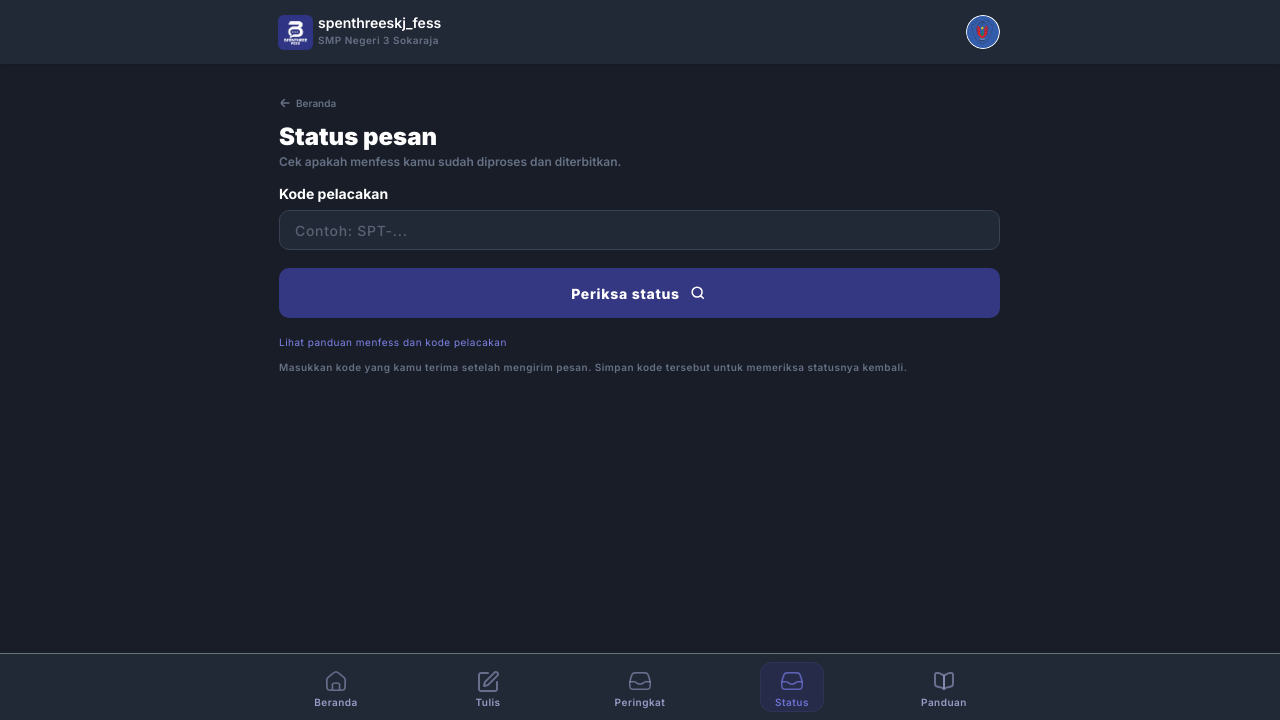
Test: preserved menfess integration › tracks with the existing POST contract and real publication fields
Type "SPT-0123456789ABCDEF0123456789ABCDEF" into the field labelled "Kode pelacakan" at (640, 230), box [279, 210, 1000, 250]
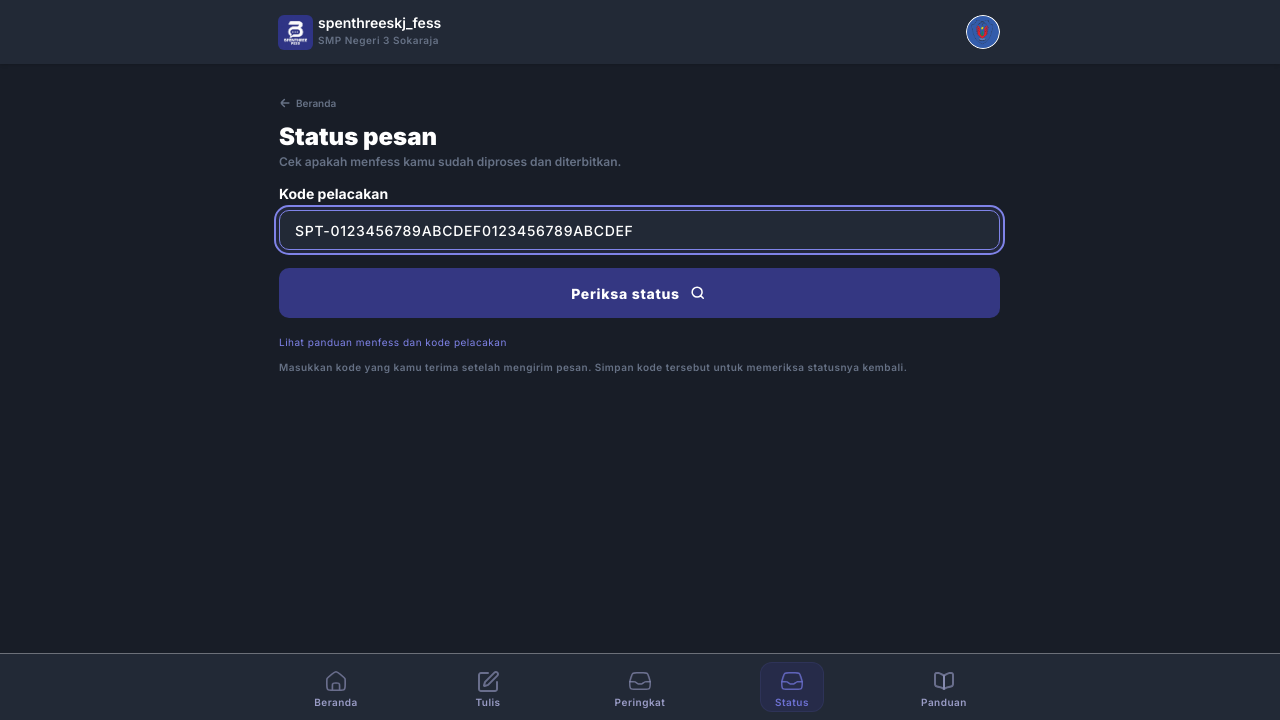
Click the button "Periksa status" at (640, 293), box [279, 268, 1000, 318]
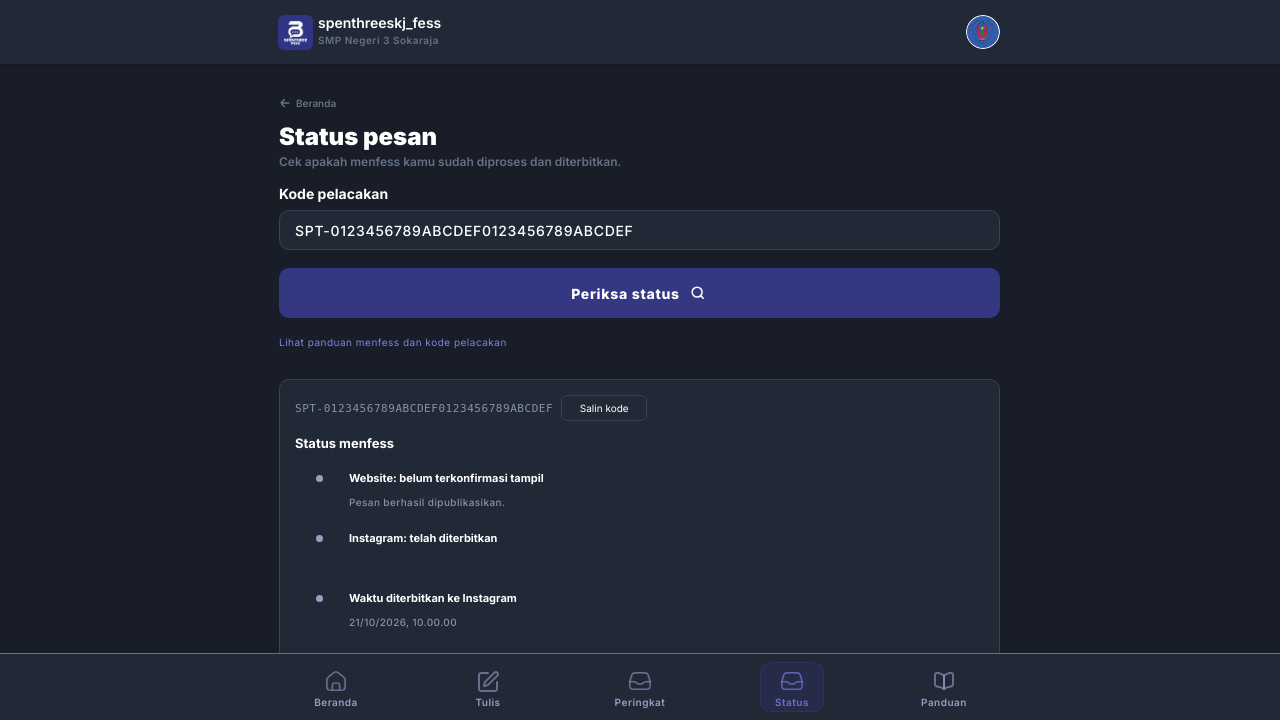
Check: the text "Pesan berhasil dipublikasikan." is shown, box [349, 496, 506, 508]
